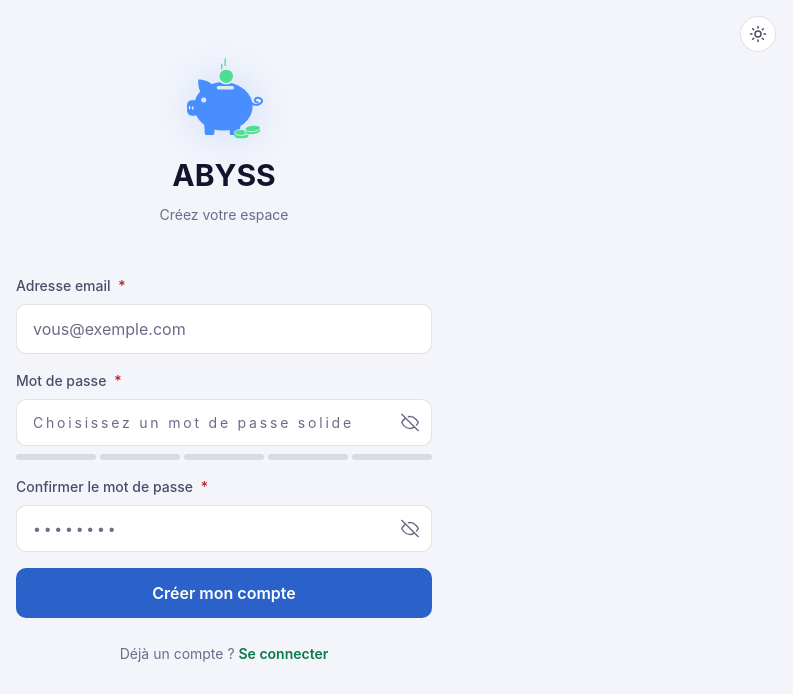
Test case: RegisterPage — validation › refuse un email mal formé
This screenshot has width=793, height=694.
Type "pas-un-email" into the field with id "register-email" at point(224, 329), box [16, 304, 432, 354]
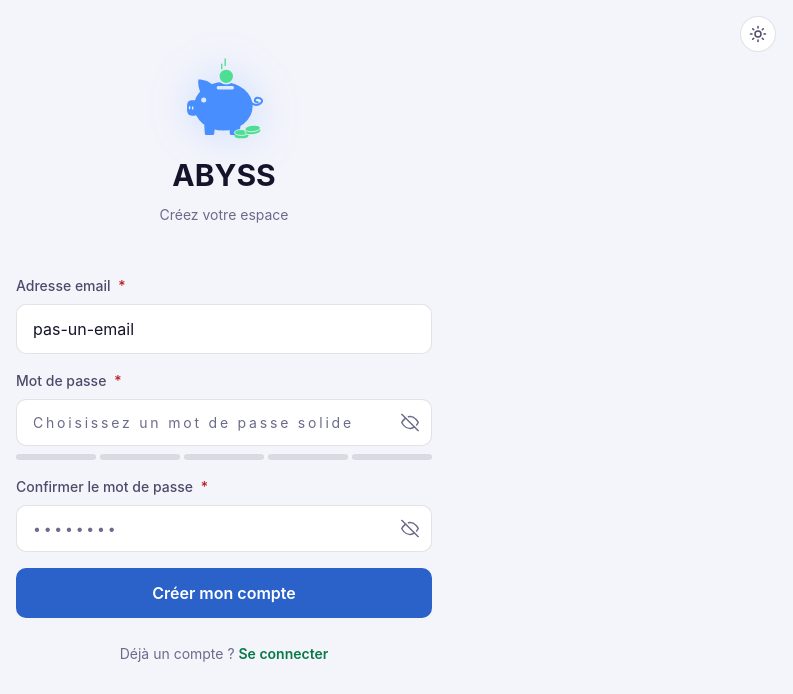
Type "Vélo-Bleu_4821" into the password field with id "register-password" at point(224, 423), box [16, 399, 432, 446]
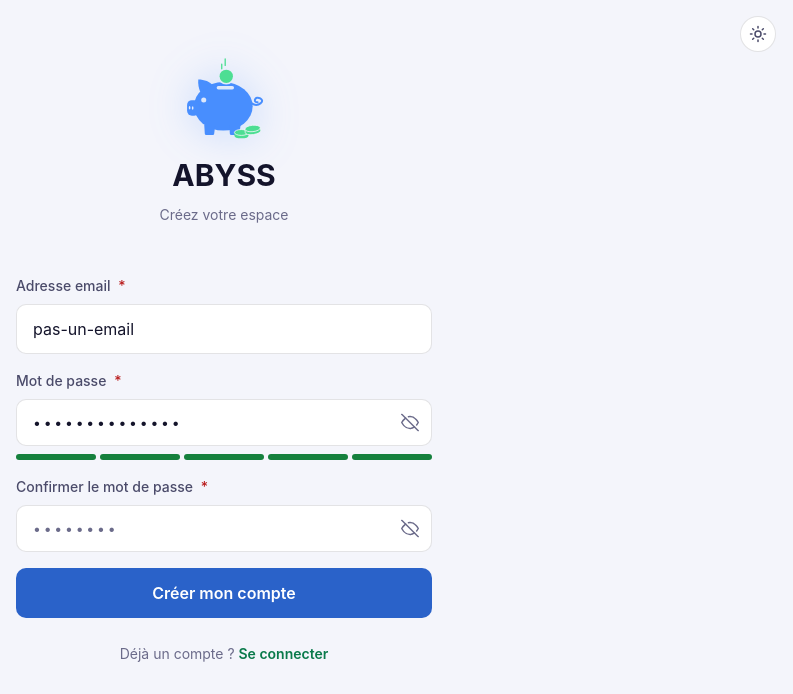
Type "Vélo-Bleu_4821" into the password field with id "register-confirm" at point(224, 529), box [16, 505, 432, 552]
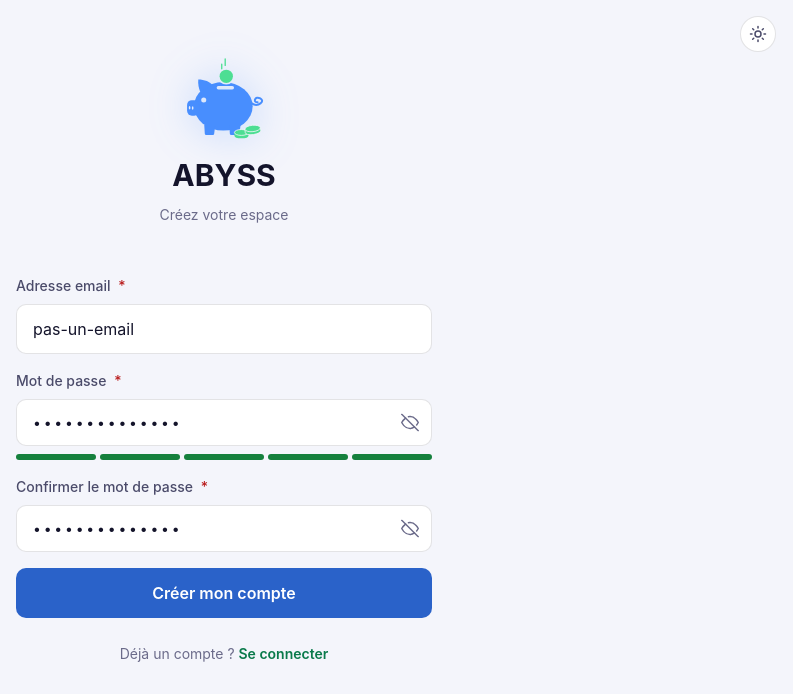
Submit the form, box [16, 275, 432, 618]
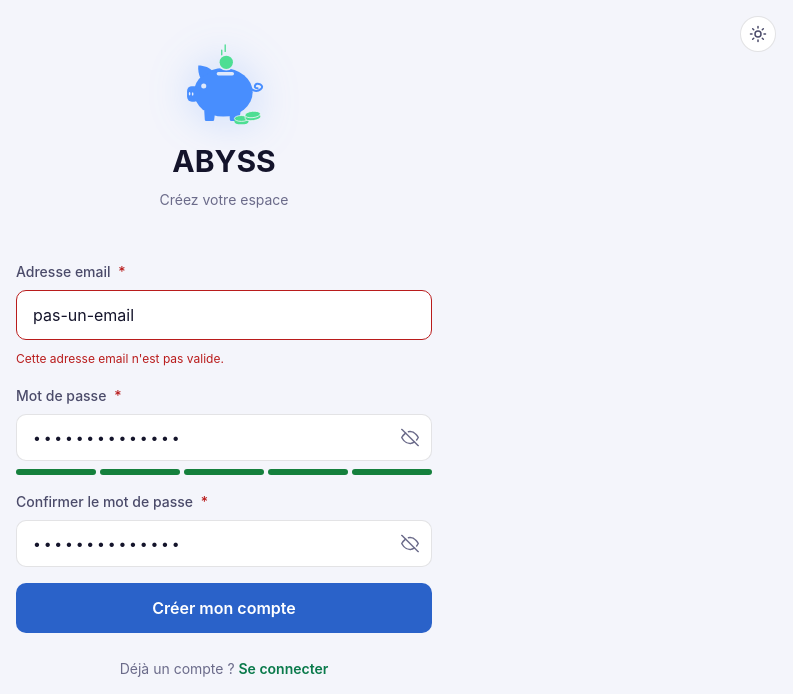
Result: the text "n'est pas valide" is shown at [16, 351, 224, 366]
